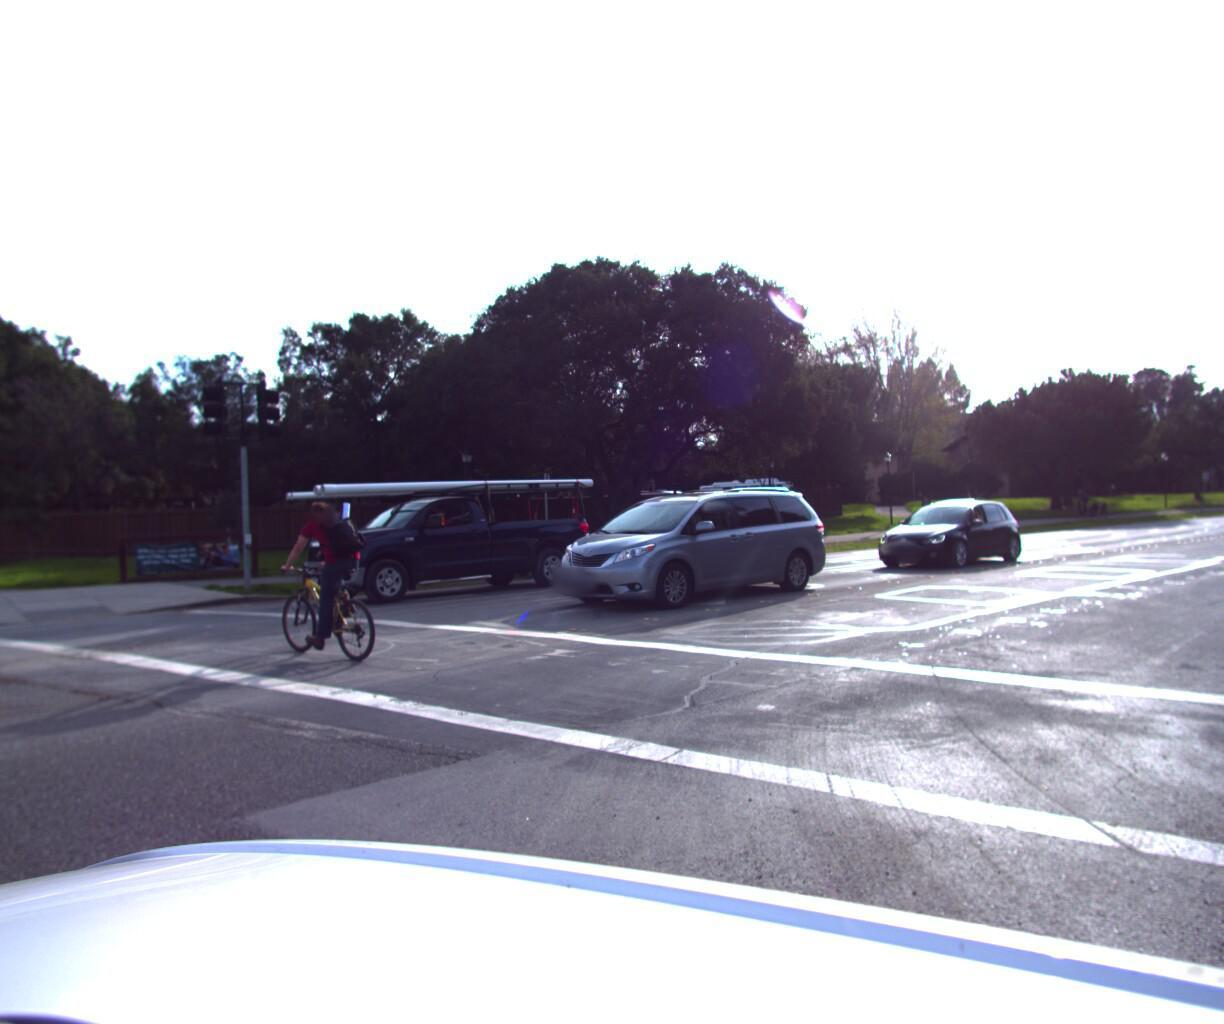bicycle: (246, 478, 432, 671)
bus: (691, 471, 799, 509)
car: (270, 472, 610, 610), (521, 485, 842, 625), (858, 493, 1024, 575)
